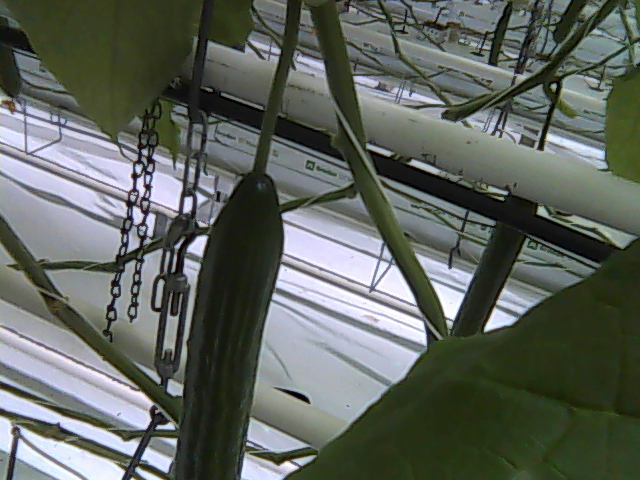concombre: (172, 162, 290, 480)
